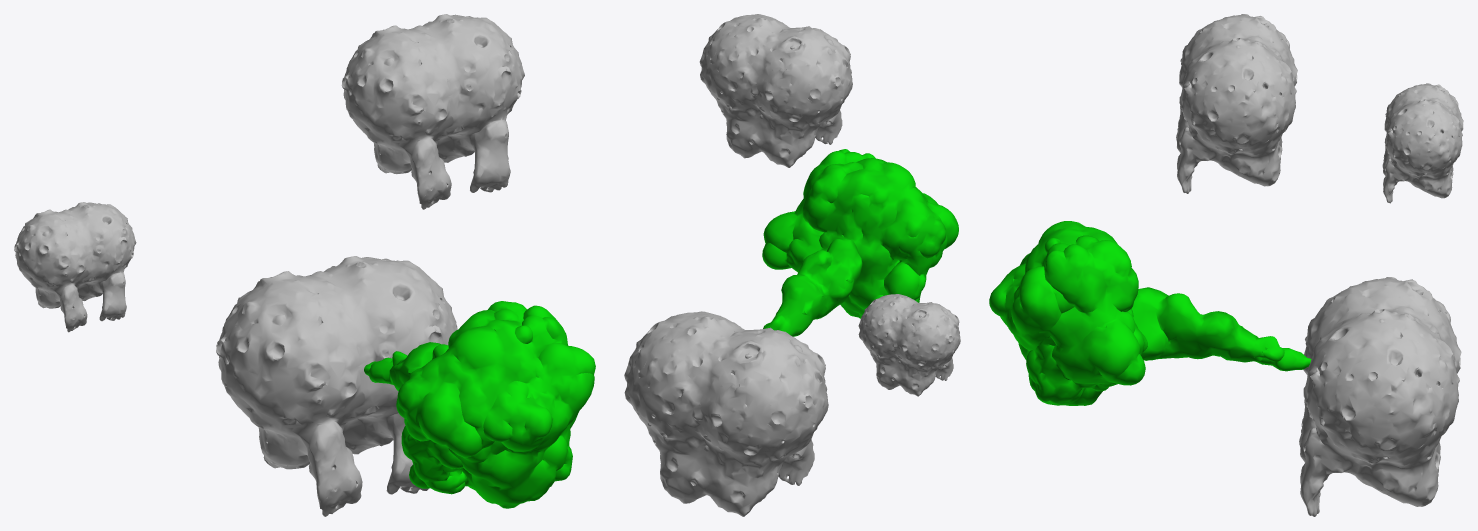
File: ass-teroids.glb
3 views of the same model, side by side, from view 1: azimuth 30°, elevation 25°; view 2: azimuth 150°, elevation 25°; view 3: azimuth 270°, elevation 25° (orthographic). The views are drawn at different scales.
Parts seen in each view (by area): view 1: Geode; view 2: Geode; view 3: Geode.
Part boxes in pixels (x1,y1,x2,y2): Geode: (14, 14, 595, 516); Geode: (624, 14, 960, 516); Geode: (989, 14, 1463, 516).
Size of the model in its own units: 2808 by 3366 by 3066.
